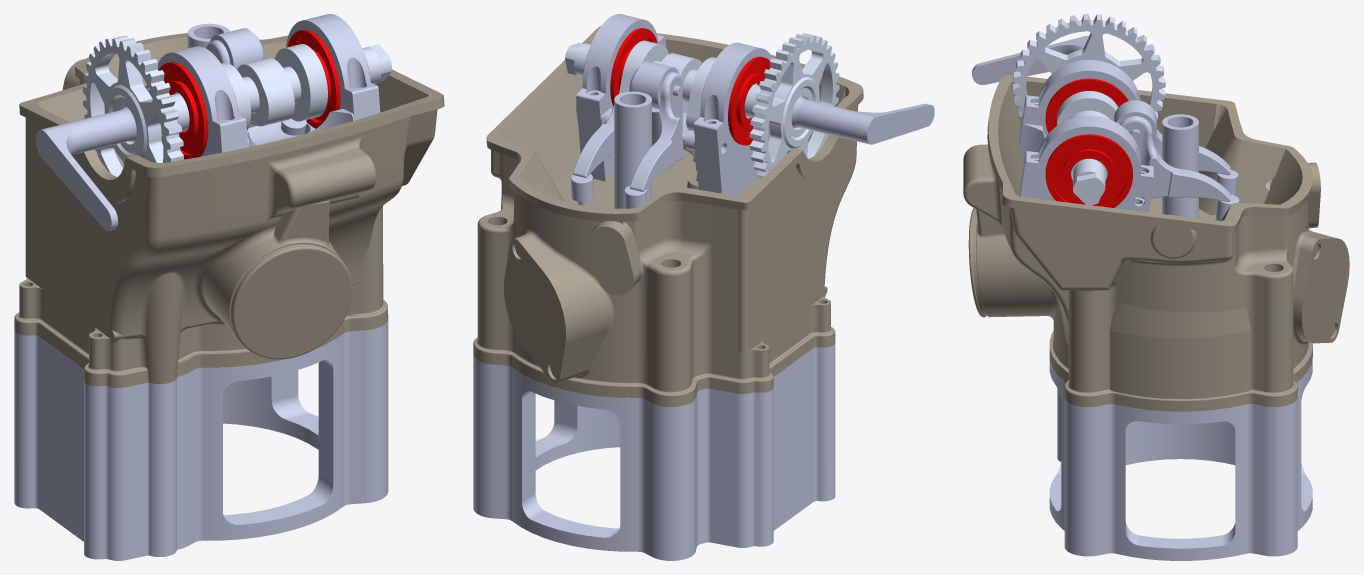
File: Valve_Train_Assembly.glb
3 renders of one model, left to right at view 1: azimuth 30°, elevation 25°; view 2: azimuth 150°, elevation 25°; view 3: azimuth 270°, elevation 25°, orthographic. The views are drawn at different scales.
Parts seen in each view (by area): view 1: Cylinder Head 2.0-1, Head Stand-1, CamshaftGear-1, Camshaft-1, handle-1, Camshaft Top Mount-2, Camshaft Top Mount-1, Mock Bearing-2, Bridge-1, RockerRollerCombinedV2^Valve Train Assembly-1, Mock Bearing-1, Sleeve-1; view 2: Cylinder Head 2.0-1, Head Stand-1, CamshaftGear-1, RockerRollerCombinedV2^Valve Train Assembly-1, Bridge-1, handle-1, Camshaft-1, Sleeve-1, Camshaft Top Mount-2, Camshaft Top Mount-1, Mock Bearing-2, Mock Bearing-1 (+1 smaller); view 3: Cylinder Head 2.0-1, Head Stand-1, CamshaftGear-1, RockerRollerCombinedV2^Valve Train Assembly-1, Mock Bearing-1, Camshaft Top Mount-2, Camshaft-1, Sleeve-1, Camshaft Top Mount-1, Bridge-1, handle-1, Mock Bearing-2.
Part boxes in pixels (left/top/right/bottom): Cylinder Head 2.0-1: left=14, top=33, right=444, bottom=387; Head Stand-1: left=14, top=319, right=388, bottom=560; CamshaftGear-1: left=82, top=35, right=183, bottom=176; Camshaft-1: left=161, top=44, right=391, bottom=135; handle-1: left=35, top=106, right=136, bottom=230; Camshaft Top Mount-2: left=286, top=14, right=379, bottom=111; Camshaft Top Mount-1: left=146, top=46, right=247, bottom=143; Mock Bearing-2: left=158, top=62, right=238, bottom=159; Bridge-1: left=161, top=105, right=380, bottom=156; RockerRollerCombinedV2^Valve Train Assembly-1: left=145, top=28, right=263, bottom=124; Mock Bearing-1: left=287, top=30, right=370, bottom=128; Sleeve-1: left=187, top=23, right=229, bottom=48; Cylinder Head 2.0-1: left=473, top=26, right=863, bottom=406; Head Stand-1: left=473, top=343, right=835, bottom=560; CamshaftGear-1: left=749, top=33, right=839, bottom=178; RockerRollerCombinedV2^Valve Train Assembly-1: left=573, top=61, right=683, bottom=191; Bridge-1: left=577, top=83, right=780, bottom=195; handle-1: left=791, top=96, right=934, bottom=144; Camshaft-1: left=565, top=40, right=776, bottom=130; Sleeve-1: left=614, top=91, right=651, bottom=208; Camshaft Top Mount-2: left=576, top=14, right=666, bottom=115; Camshaft Top Mount-1: left=694, top=42, right=780, bottom=143; Mock Bearing-2: left=701, top=56, right=770, bottom=145; Mock Bearing-1: left=583, top=28, right=657, bottom=105; Cylinder Head 2.0-1: left=963, top=75, right=1349, bottom=411; Head Stand-1: left=1049, top=360, right=1312, bottom=560; CamshaftGear-1: left=1013, top=14, right=1165, bottom=119; RockerRollerCombinedV2^Valve Train Assembly-1: left=1113, top=100, right=1230, bottom=202; Mock Bearing-1: left=1045, top=134, right=1132, bottom=207; Camshaft Top Mount-2: left=1023, top=115, right=1153, bottom=192; Camshaft-1: left=1057, top=91, right=1118, bottom=205; Sleeve-1: left=1162, top=114, right=1198, bottom=218; Camshaft Top Mount-1: left=1023, top=59, right=1140, bottom=124; Bridge-1: left=1019, top=112, right=1151, bottom=212; handle-1: left=972, top=35, right=1089, bottom=84; Mock Bearing-2: left=1045, top=78, right=1128, bottom=133.
Bounding box in the file's own units: 0.1636 × 0.2216 × 0.1787.
